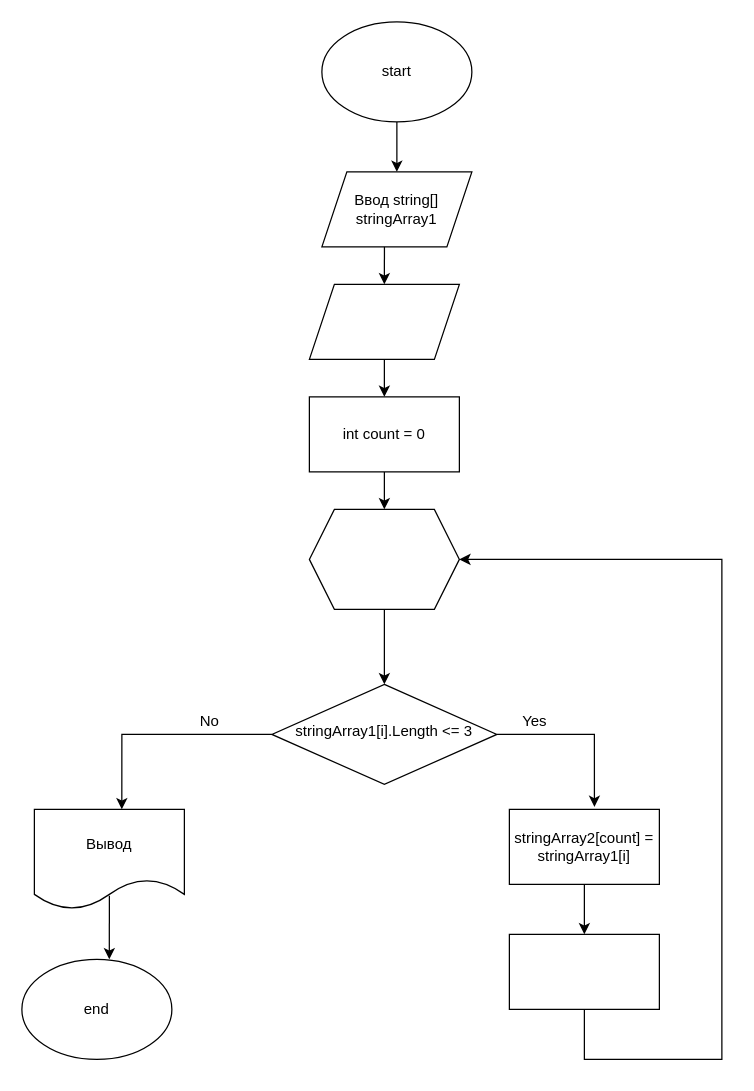
Image size: 754x1091. Some labels were removed from this diagram. The centre of each missing label's shape, as x and y in pixels:
count++: the point at 583,971
int i = 1; i < stringArray1.Length; i++: the point at 383,558
Ввод string[] stringArray2: the point at 383,321
